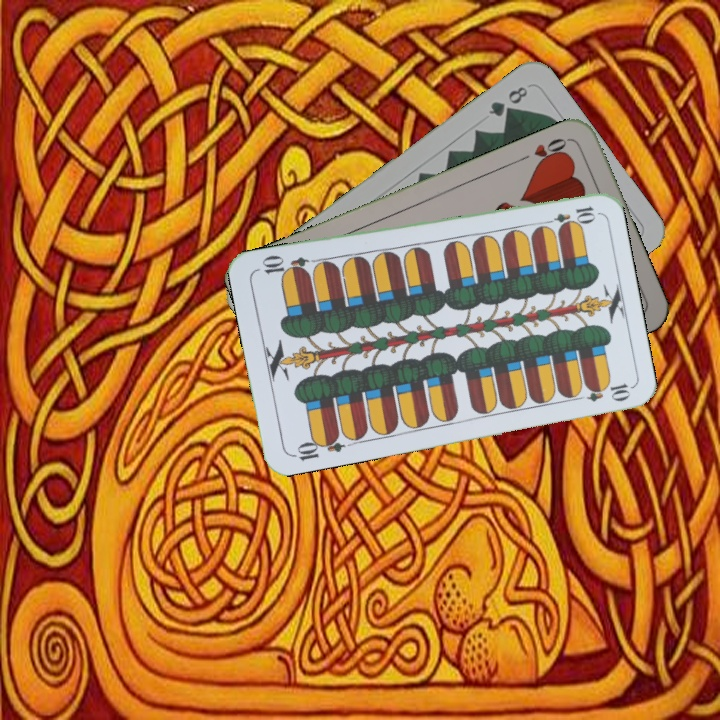E10: (288, 430, 347, 463), (539, 202, 598, 229)
G8: (484, 82, 531, 120)
HO: (515, 133, 571, 169)
